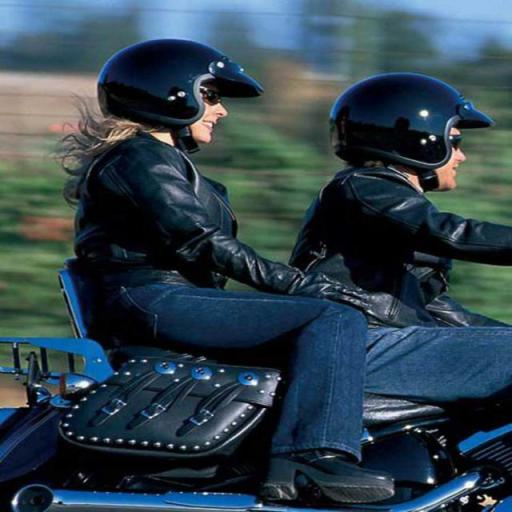Helmet: (330, 73, 492, 171), (98, 40, 263, 131)
Motor: (0, 269, 334, 511)
